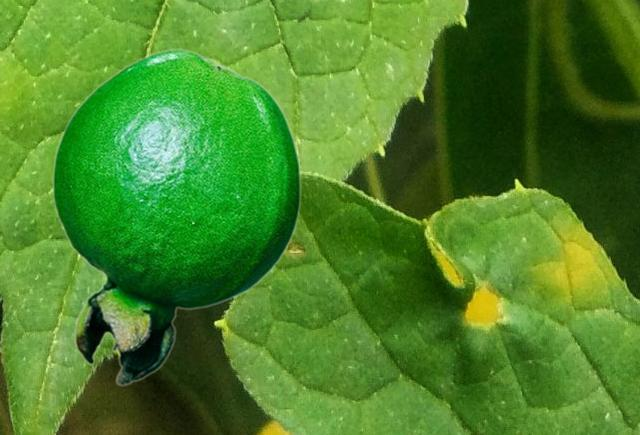guava: (51, 48, 301, 385)
